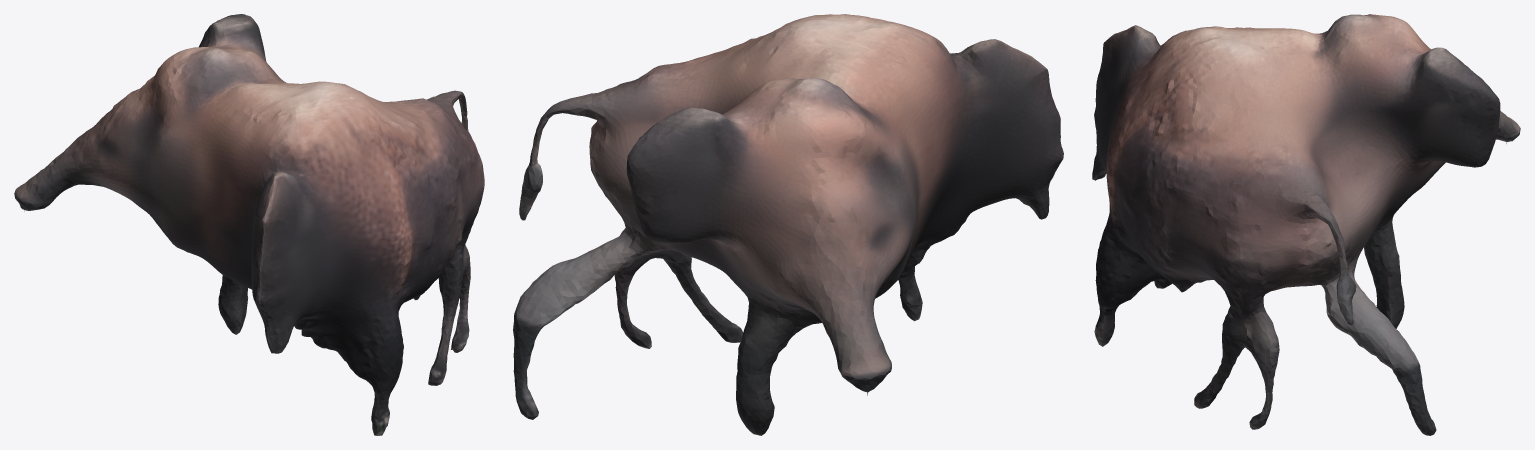
The model's file is IMG_SEG_02.glb.
3 renders of one model, left to right at view 1: azimuth 30°, elevation 25°; view 2: azimuth 150°, elevation 25°; view 3: azimuth 270°, elevation 25°, orthographic. The views are drawn at different scales.
Size of the model in its own units: 0.8528 by 0.6598 by 0.8039.
1 material, 1 textured.
